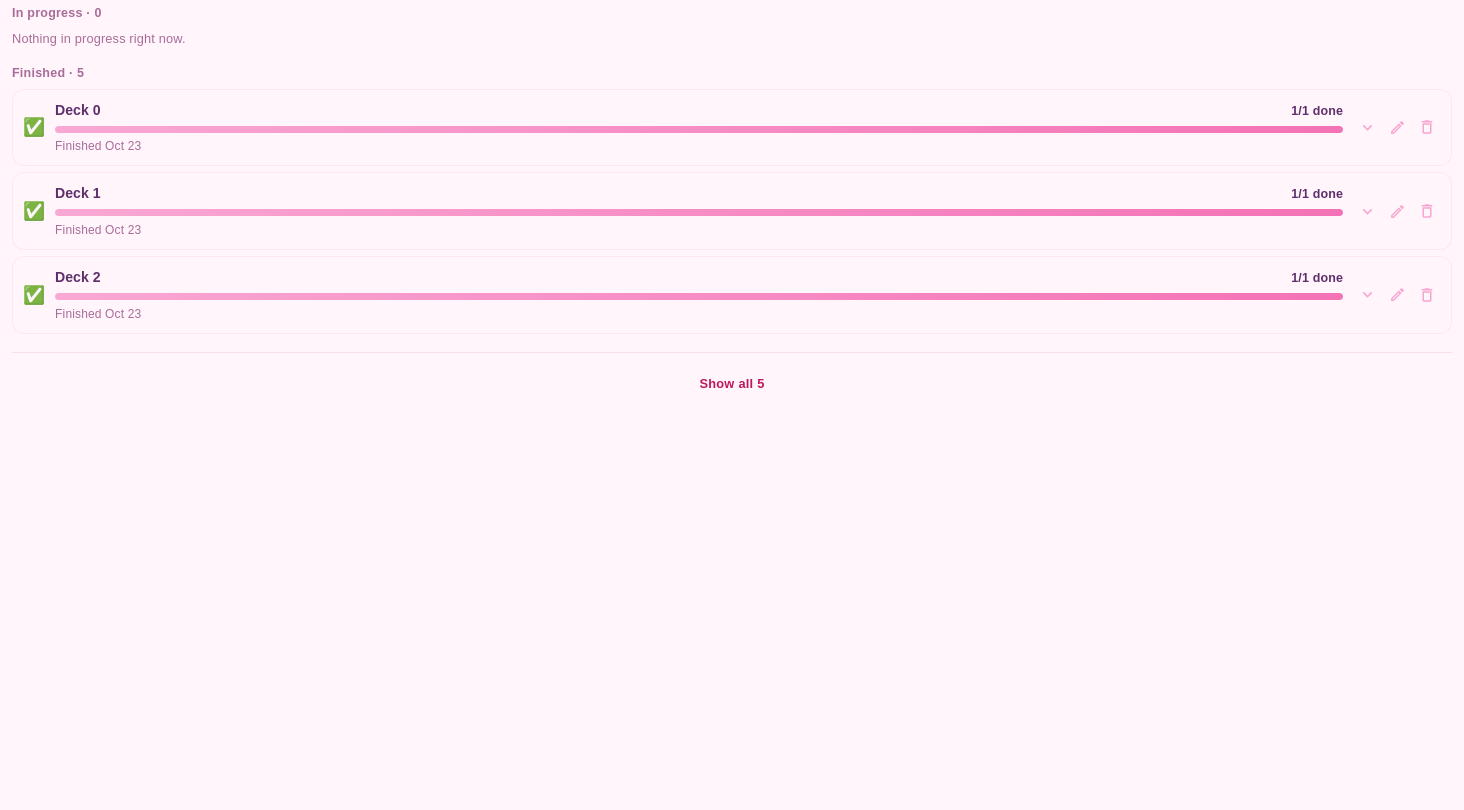
Scenario: AssignmentsList › collapses finished handouts to 3 with a Show all button, expanding on click
The width and height of the screenshot is (1464, 810).
Check: the heading "Finished · 5" is shown, box [12,66,84,80]
Check: the text "Deck 0" is shown 3 times, box [55,100,100,121]; [55,183,100,204]; [55,267,100,288]
Click the button "Show all 5": (732, 384) [12,365,1452,403]
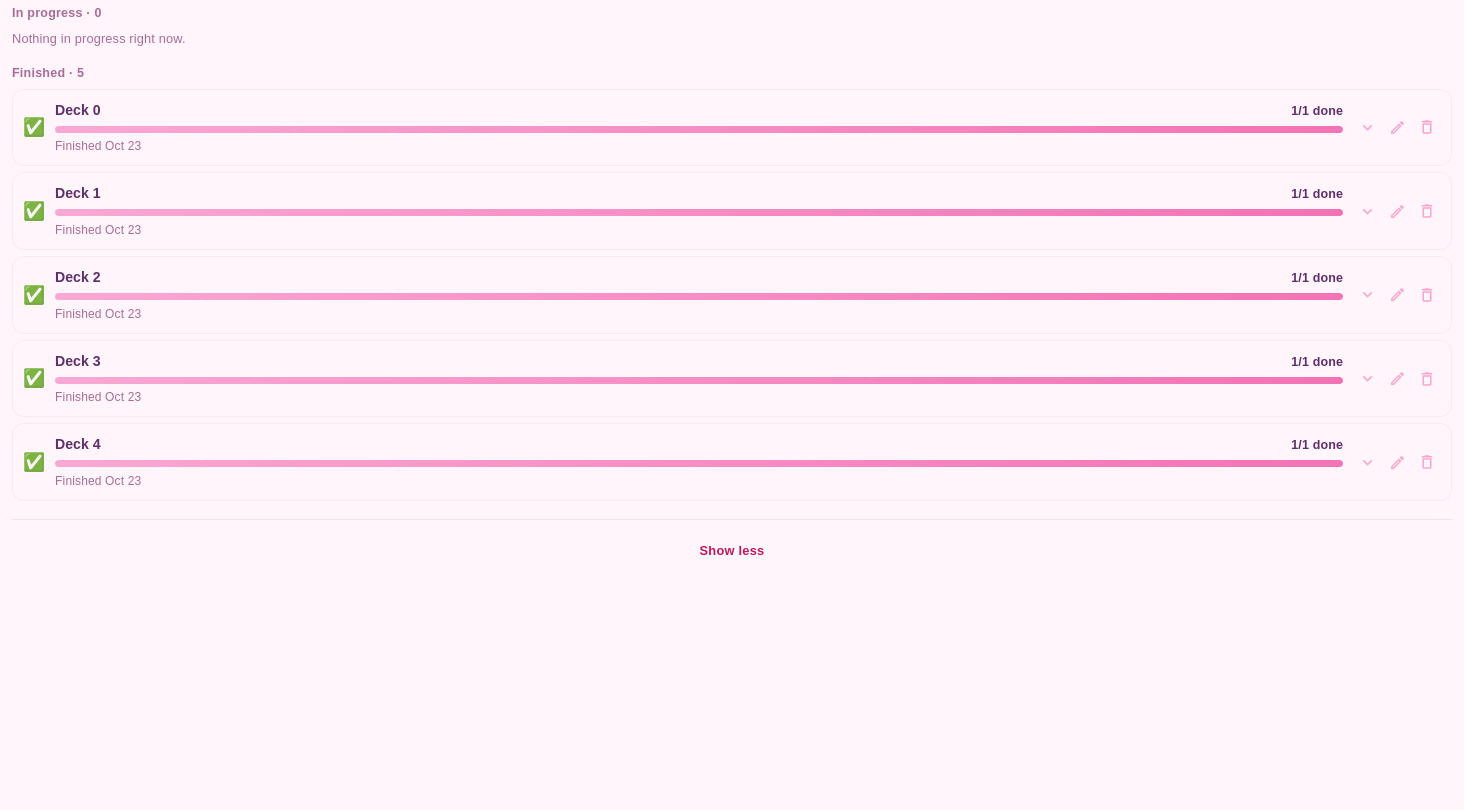
Check: the text "Deck 0" is shown 5 times, box [55,100,100,121]; [55,183,100,204]; [55,267,100,288]; [55,351,100,372]; [55,434,100,456]
